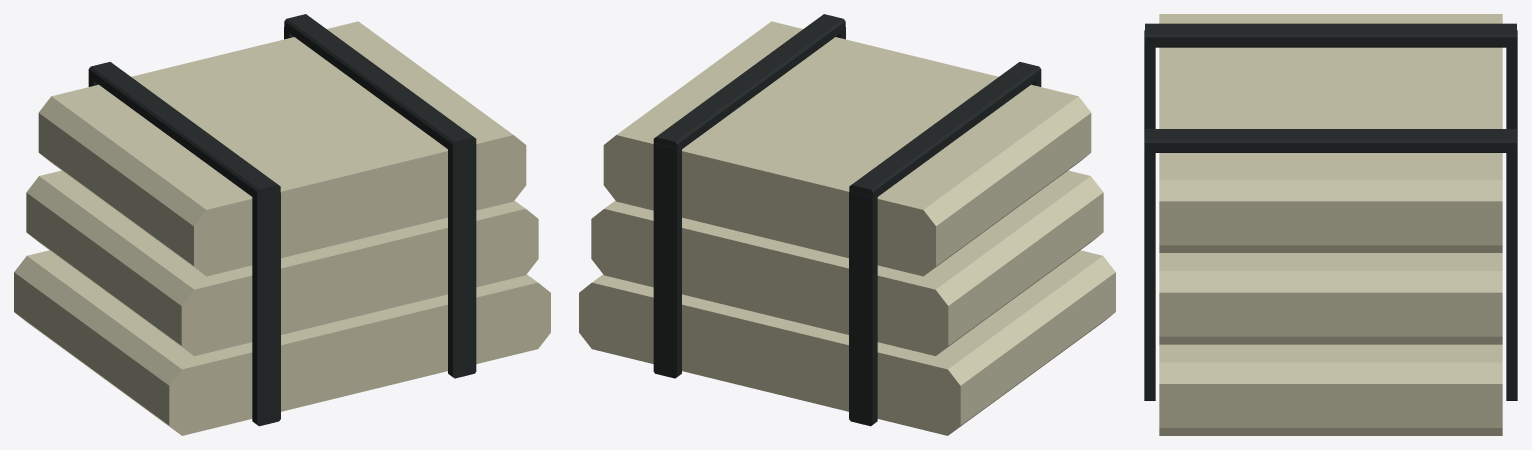
File: Cloth.gltf
The picture shows the model from 3 angles, left to right: view 1: azimuth 30°, elevation 25°; view 2: azimuth 150°, elevation 25°; view 3: azimuth 270°, elevation 25°; orthographic projection. The views are drawn at different scales.
Visible parts, largest first — view 1: Cloth; view 2: Cloth; view 3: Cloth.
Part boxes in pixels (bbox=[...]): Cloth: bbox=[14, 14, 550, 435]; Cloth: bbox=[579, 14, 1115, 435]; Cloth: bbox=[1144, 14, 1517, 435].
Bounding box in the file's own units: 0.39 × 0.231 × 0.299.
